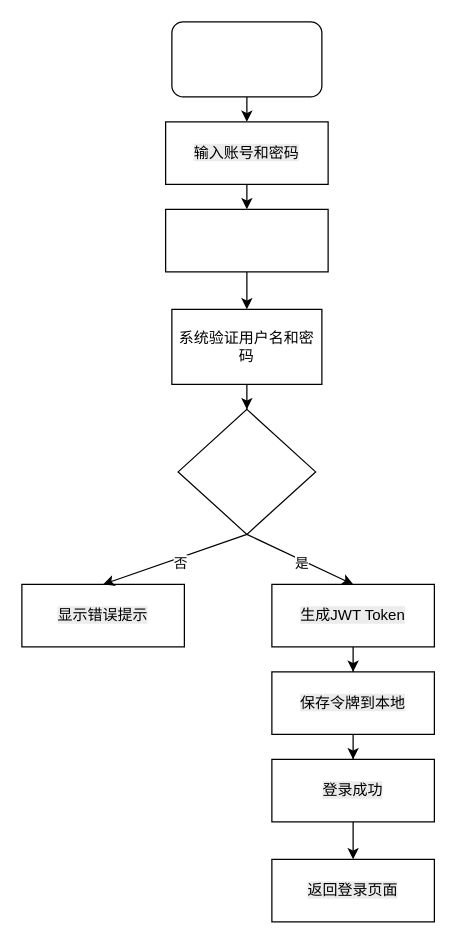
This 456x944 diagram has some shape labels left out. Here are the shapes that lost their labels. From the top down, the centre of each, then its label:
At point (246, 59): "用户进入登录页面".
At point (246, 240): "点击登录按钮".
At point (246, 471): "验证是否成功".
